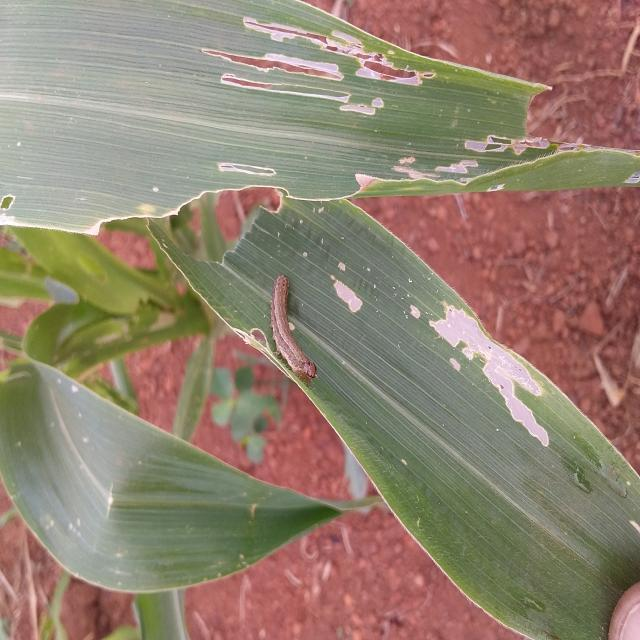yellow-stem-borer-larva: (246, 253, 333, 384)
